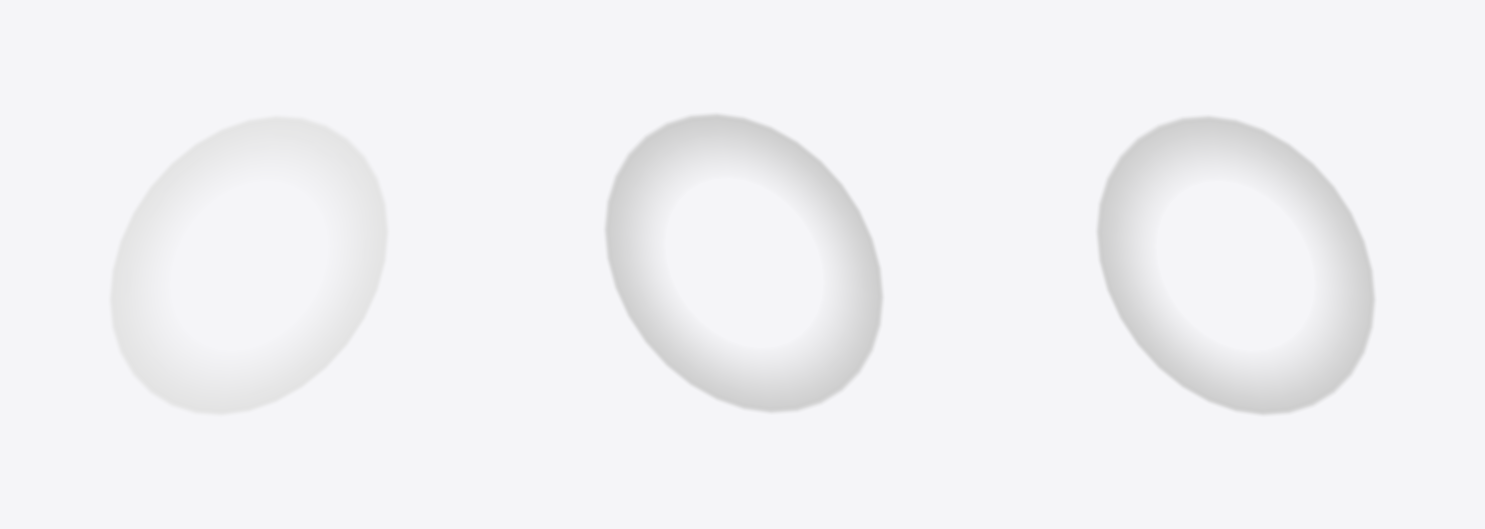
File: fx_c195_sk2_buff_bullet__Shock_Mesh.glb
The picture shows the model from 3 angles, left to right: view 1: azimuth 30°, elevation 25°; view 2: azimuth 150°, elevation 25°; view 3: azimuth 330°, elevation 25°; orthographic projection.
Visible parts, largest first — view 1: fx_c195_sk2_buff_bullet; view 2: fx_c195_sk2_buff_bullet; view 3: fx_c195_sk2_buff_bullet.
Boxes of the visible parts, x1=… form: fx_c195_sk2_buff_bullet: x1=109, y1=115, x2=388, y2=415; fx_c195_sk2_buff_bullet: x1=604, y1=113, x2=883, y2=413; fx_c195_sk2_buff_bullet: x1=1096, y1=115, x2=1375, y2=415.
Size of the model in its own units: 1.83 by 1.83 by 0.0139.
1 material, 1 textured.
